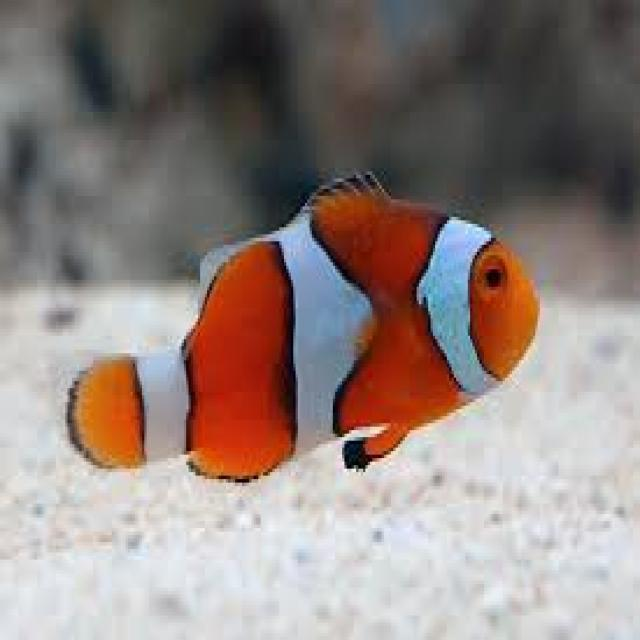ClownFish: (66, 171, 545, 487)
